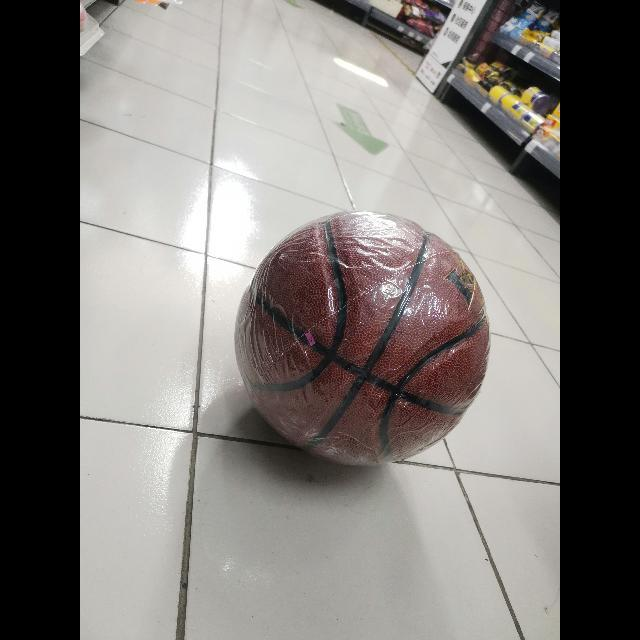basketball: (236, 210, 488, 466)
